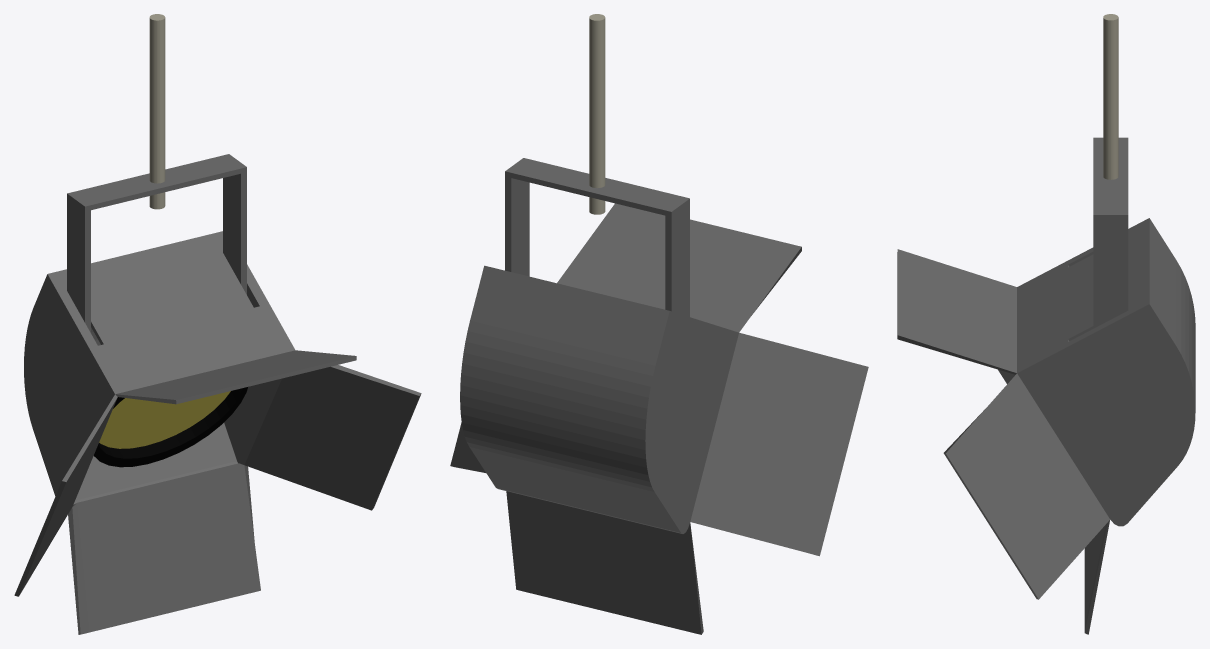
File: faro.fbx
The picture shows the model from 3 angles, left to right: view 1: azimuth 30°, elevation 25°; view 2: azimuth 150°, elevation 25°; view 3: azimuth 270°, elevation 25°; orthographic projection. The views are drawn at different scales.
Visible parts, largest first — view 1: Cube.001; view 2: Cube.001; view 3: Cube.001.
Part boxes in pixels (bbox=[...]): Cube.001: bbox=[14, 14, 421, 634]; Cube.001: bbox=[450, 14, 868, 634]; Cube.001: bbox=[897, 14, 1195, 634].
Bounding box in the file's own units: 39.87 × 62.21 × 29.25.
